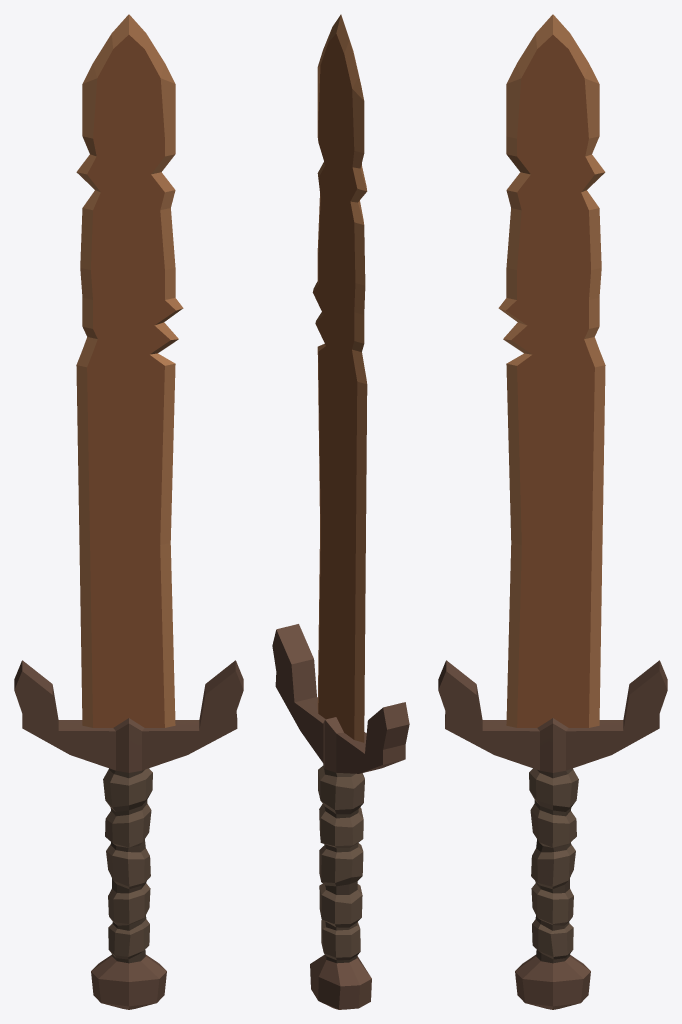
File: rusty_sword.glb
3 renders of one model, left to right at view 1: azimuth 90°, elevation 25°; view 2: azimuth 210°, elevation 25°; view 3: azimuth 270°, elevation 25°, orthographic.
Visible parts, largest first — view 1: rusty_sword; view 2: rusty_sword; view 3: rusty_sword.
Boxes of the visible parts, bbox=[...] form: rusty_sword: bbox=[14, 14, 243, 1009]; rusty_sword: bbox=[272, 14, 409, 1009]; rusty_sword: bbox=[438, 14, 667, 1009].
Bounding box in the file's own units: 0.0359 × 0.75 × 0.1571.
